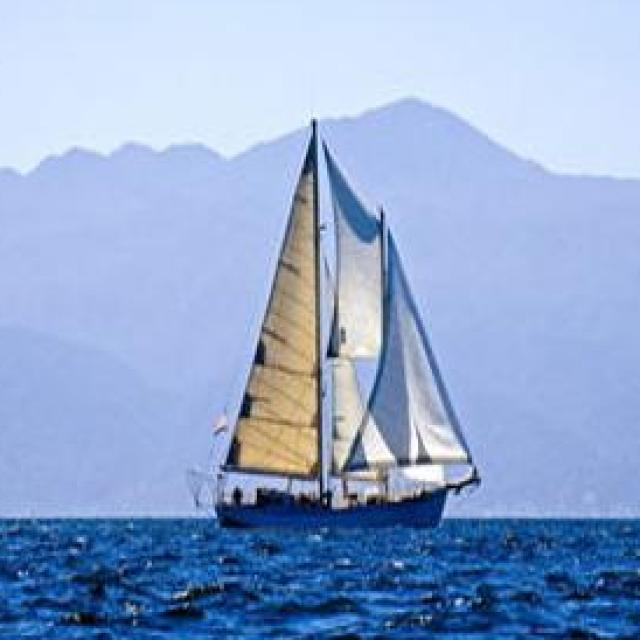sailboat: (202, 112, 474, 529)
